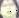without_mask: (1, 1, 19, 18)
